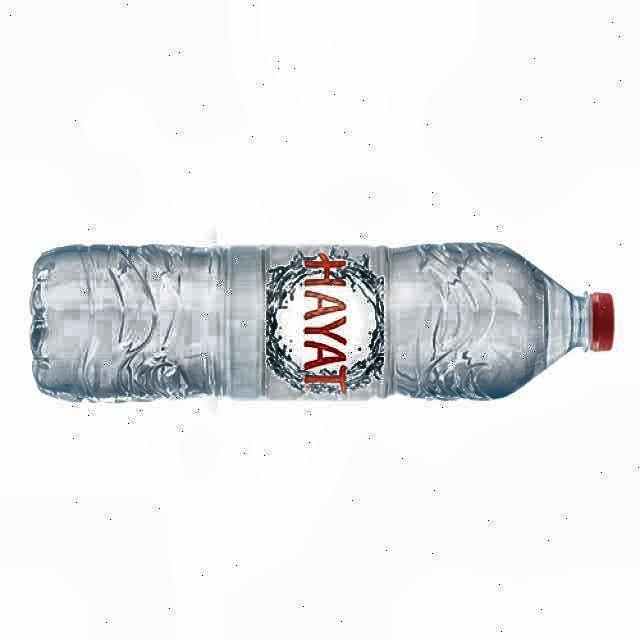plastic: (30, 242, 612, 400)
